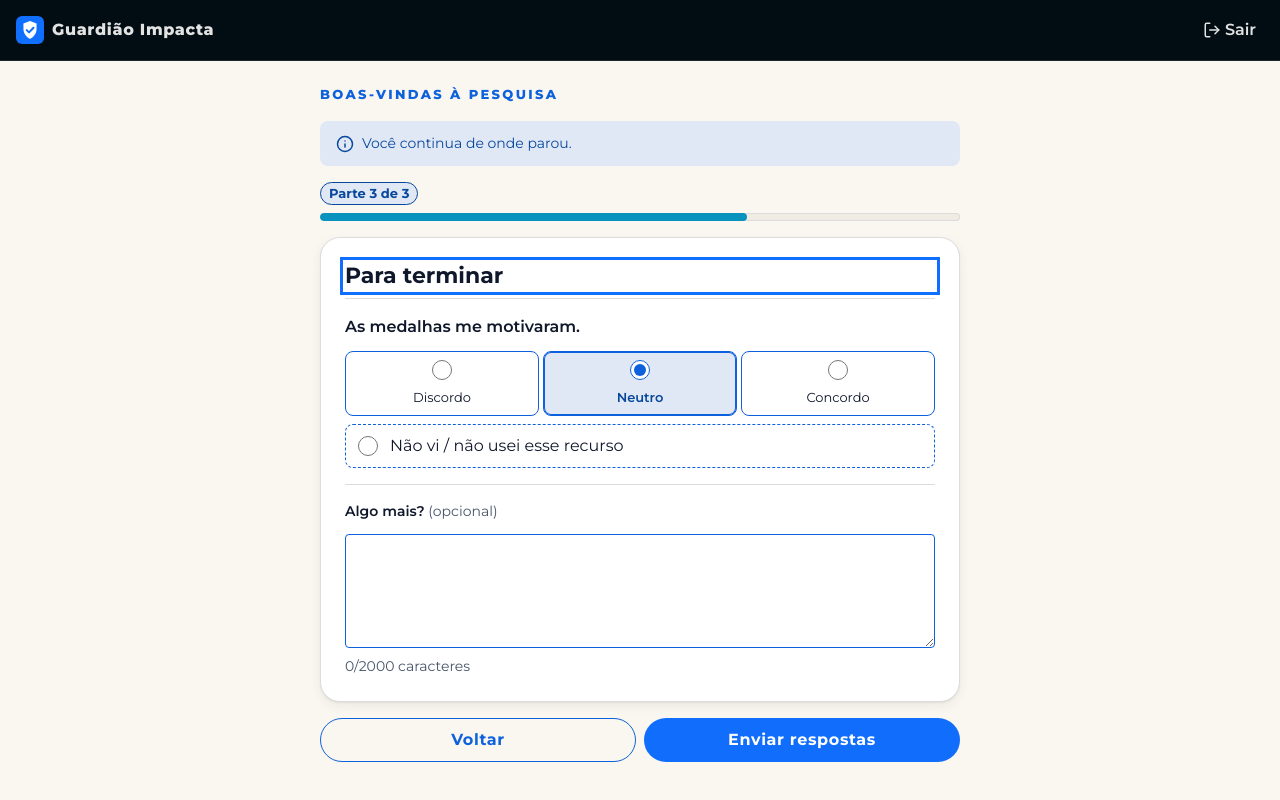
Scenario: questionário inicial (pré) › botão de envio fica desabilitado enquanto envia (sem envio duplicado)
This screenshot has width=1280, height=800.
Step 1. Click the button "Enviar respostas" → (802, 740), box x1=644 y1=718 x2=960 y2=762
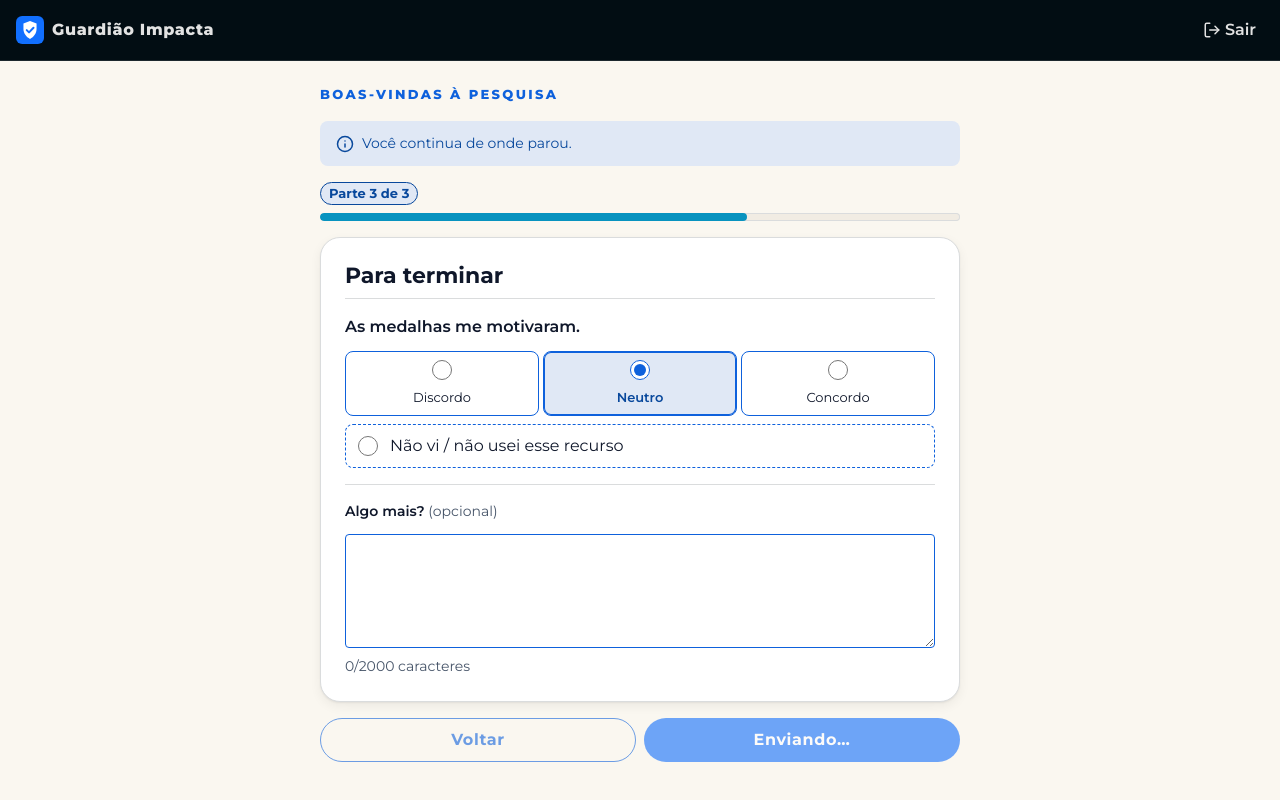
expect the button "Enviando…" is disabled: met
Step 2. Click the button "Enviando…" → (802, 740), box x1=644 y1=718 x2=960 y2=762
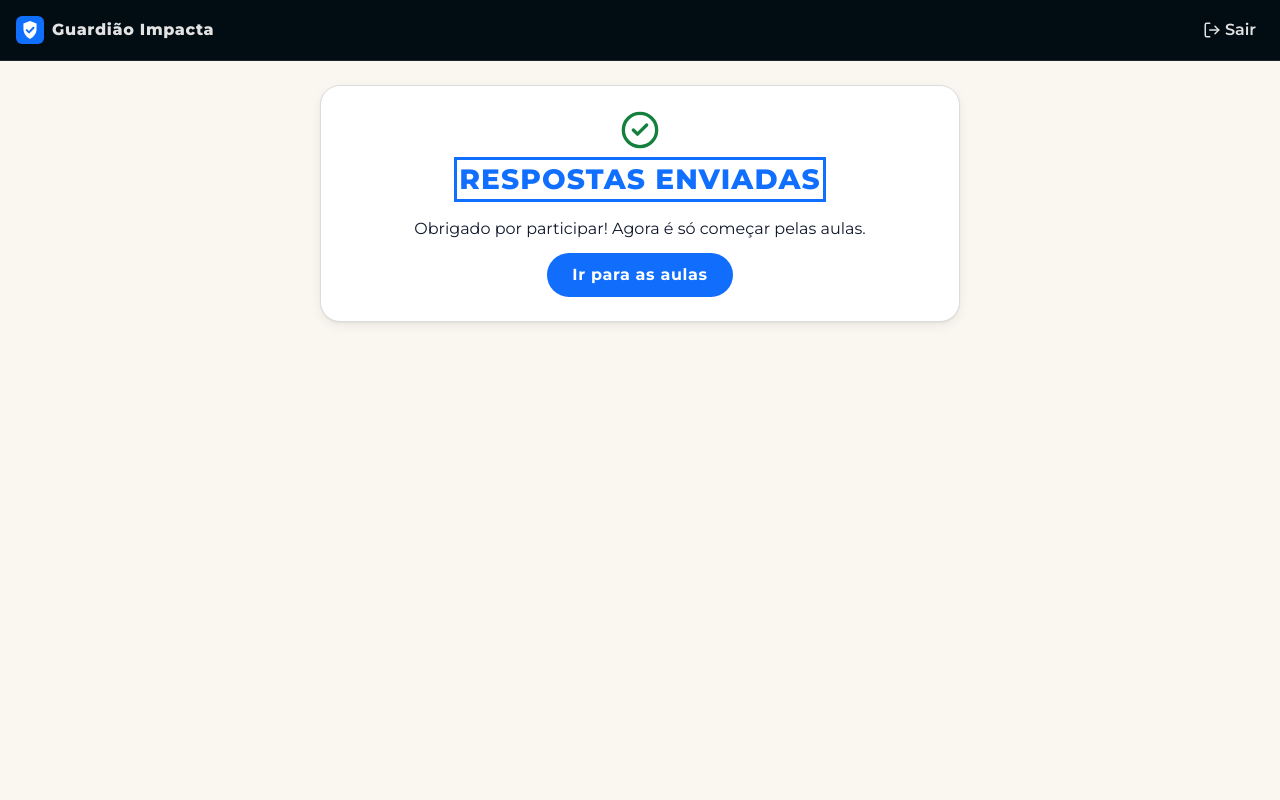
expect the heading "Respostas enviadas" is shown: met, box x1=459 y1=162 x2=821 y2=197
